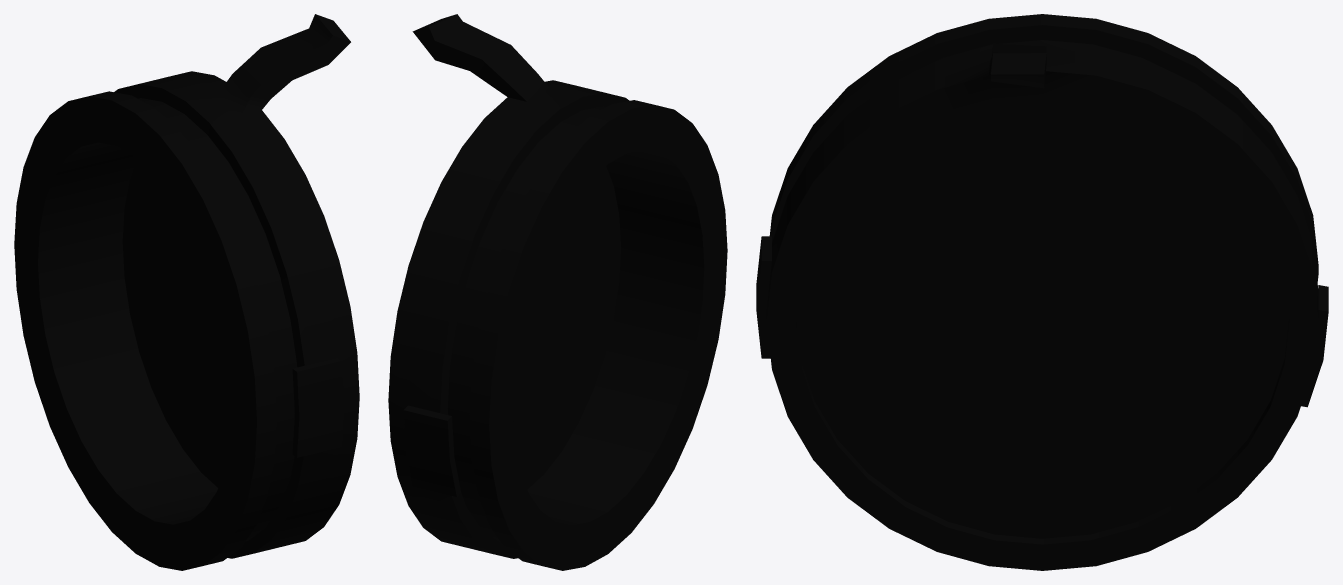
The model's file is ПТ-ЗадКрышка_П.fbx.
3 renders of one model, left to right at view 1: azimuth 30°, elevation 25°; view 2: azimuth 150°, elevation 25°; view 3: azimuth 270°, elevation 25°, orthographic. The views are drawn at different scales.
Visible parts, largest first — view 1: задняя крышка.001; view 2: задняя крышка.001; view 3: задняя крышка.001.
Part boxes in pixels (box(x1,y1,x2,y2)): задняя крышка.001: box(14, 14, 359, 570); задняя крышка.001: box(388, 14, 727, 570); задняя крышка.001: box(756, 14, 1328, 570).
Size of the model in its own units: 38.64 by 91.9 by 84.91.
1 material, 1 textured.
